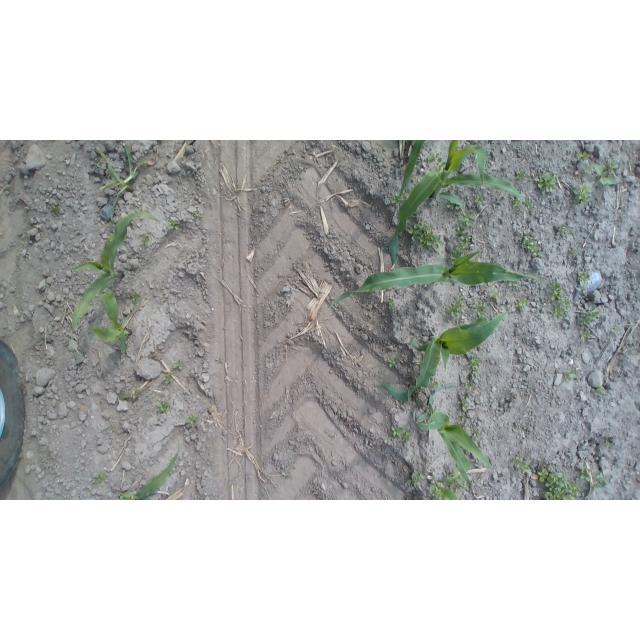Maize: (387, 141, 535, 272), (324, 250, 540, 314), (371, 310, 509, 403), (67, 210, 164, 338), (407, 382, 494, 494), (118, 442, 183, 500), (97, 143, 139, 210), (92, 291, 132, 360), (397, 142, 431, 200)
Weeds: (535, 468, 584, 500), (409, 219, 444, 254), (545, 279, 572, 318), (593, 160, 620, 187), (580, 305, 600, 341), (449, 233, 472, 263), (447, 470, 472, 495), (522, 237, 547, 262), (512, 452, 532, 478), (405, 470, 429, 491), (572, 182, 593, 205), (535, 172, 558, 193), (118, 387, 146, 403), (392, 427, 415, 443), (448, 295, 464, 318), (593, 471, 610, 490), (472, 302, 491, 319), (91, 469, 107, 487), (428, 153, 445, 169), (468, 357, 483, 375), (184, 411, 203, 425), (563, 366, 579, 381), (458, 396, 470, 415), (473, 193, 488, 208), (446, 198, 463, 211), (156, 400, 173, 413), (385, 300, 401, 313), (130, 291, 143, 307), (507, 278, 524, 290), (489, 291, 504, 304), (580, 466, 591, 483), (432, 490, 449, 500), (457, 212, 474, 222), (556, 225, 569, 238), (50, 203, 63, 216), (172, 359, 185, 372), (515, 297, 527, 311), (167, 218, 181, 230), (387, 358, 398, 373), (459, 413, 470, 428), (515, 170, 527, 183), (391, 192, 403, 205), (162, 372, 175, 384), (579, 269, 590, 283), (462, 379, 474, 391), (473, 429, 484, 442), (567, 246, 578, 259), (579, 151, 590, 164), (193, 208, 207, 218), (600, 440, 612, 451), (454, 227, 466, 238), (142, 235, 153, 247), (595, 385, 605, 397), (513, 199, 523, 210), (92, 158, 100, 169), (582, 165, 590, 174)
